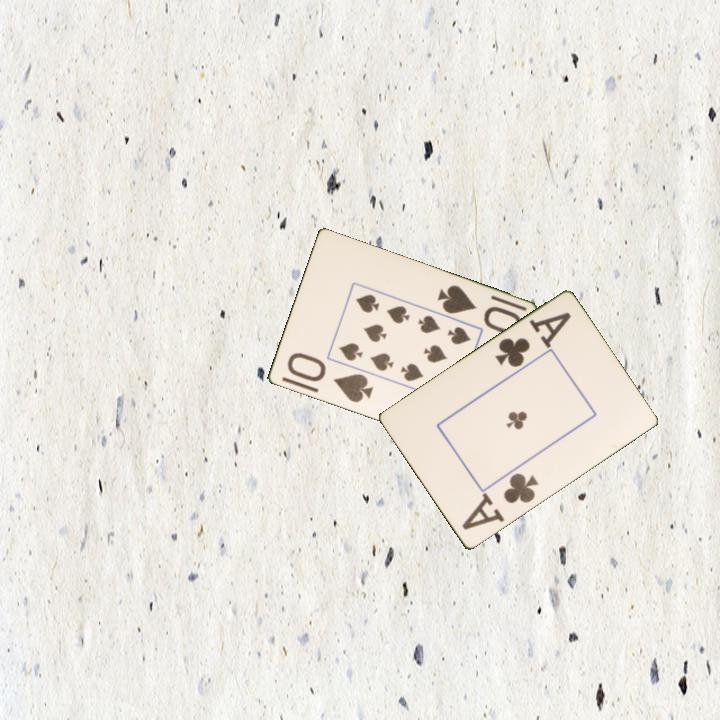10s: (283, 349, 376, 406), (433, 281, 524, 338)
Ac: (458, 470, 542, 533), (491, 309, 574, 371)
